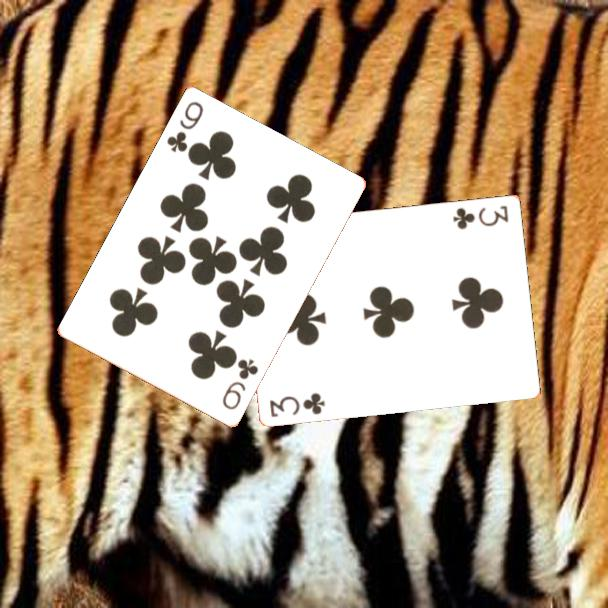c03: (450, 201, 512, 232), (266, 389, 328, 420)
c09: (163, 98, 207, 156), (219, 355, 262, 413)
